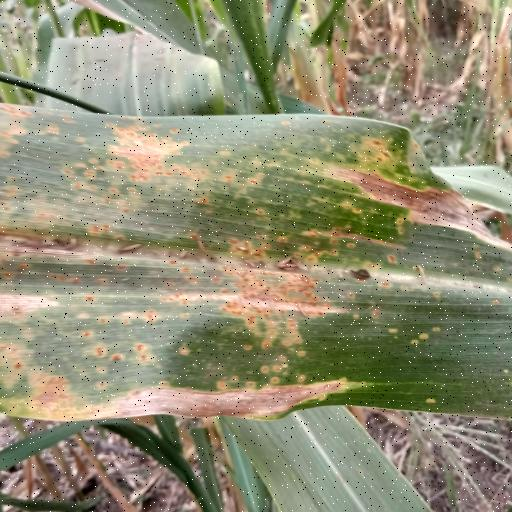Corn_Rust: (0, 87, 512, 431)
